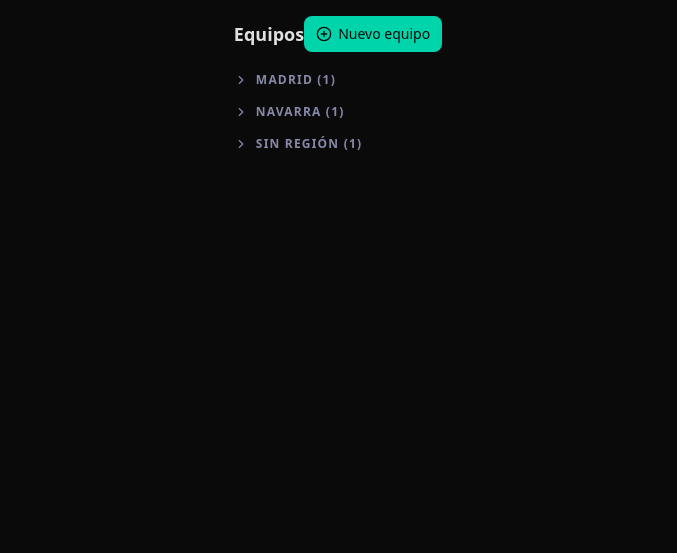
AdminEquiposPage › shows error message when delete is blocked by server
This screenshot has width=677, height=553.
Click the button "Madrid (1)" at (338, 80), box left=234, top=68, right=442, bottom=92
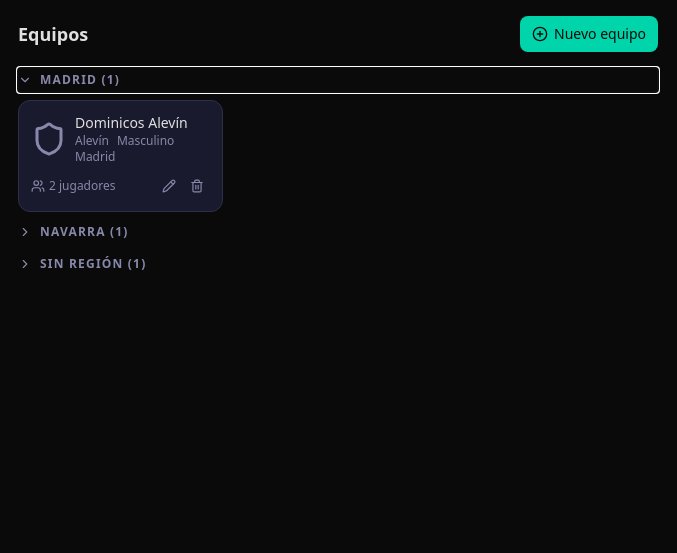
Click the button "Navarra (1)" at (73, 232), box left=18, top=220, right=658, bottom=244
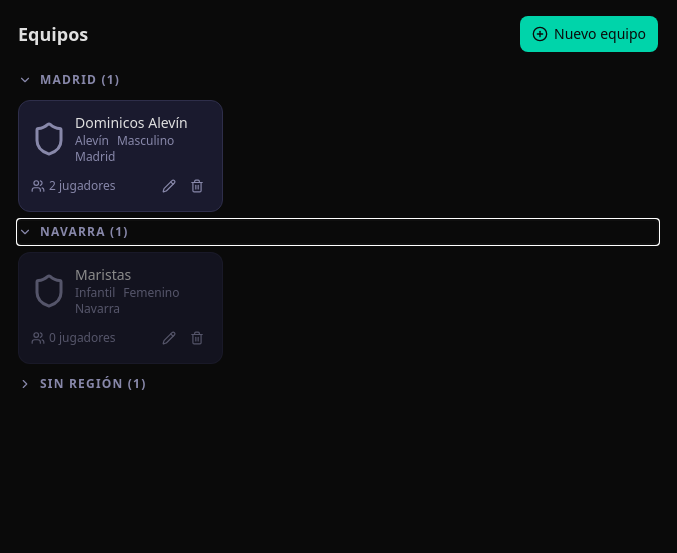
Click the button "Sin región (1)" at (82, 384), box left=18, top=372, right=658, bottom=396
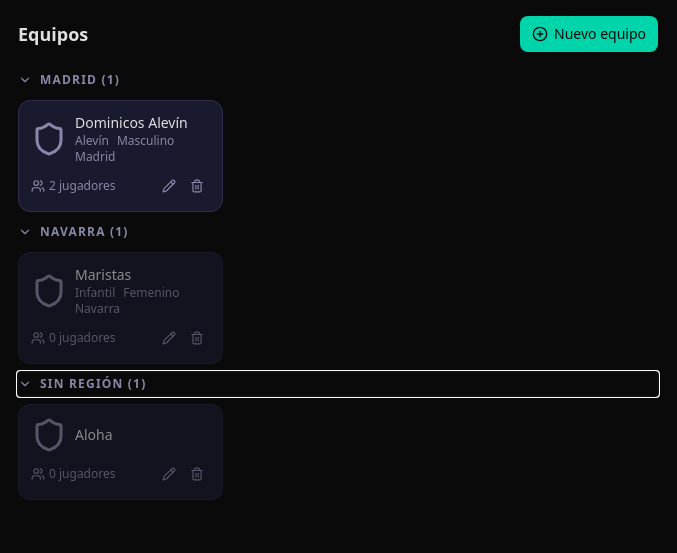
Click the button titled "Eliminar equipo" below "Masculino" at (197, 186), box left=184, top=173, right=210, bottom=199
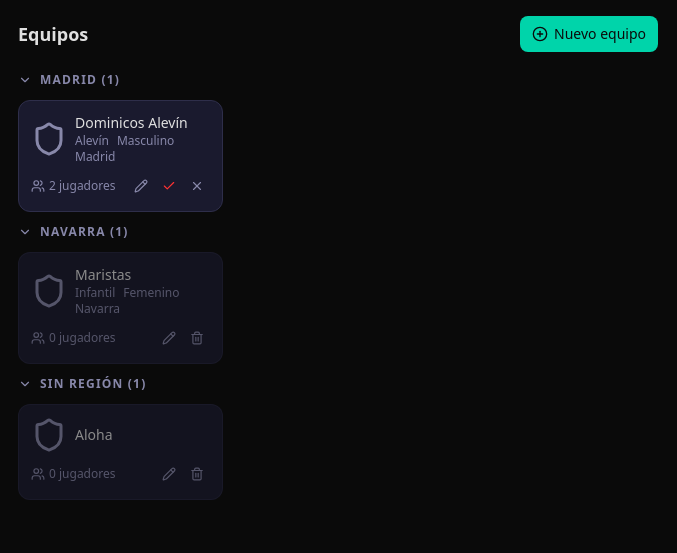
Click the button titled "Confirmar eliminar" at (169, 186), box left=156, top=173, right=182, bottom=199
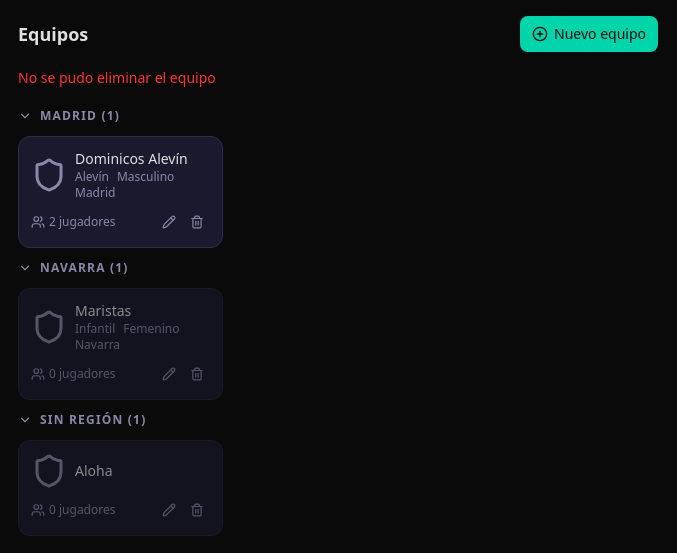
Check: the text "No se pudo eliminar el equipo" is shown, box left=18, top=68, right=216, bottom=87
